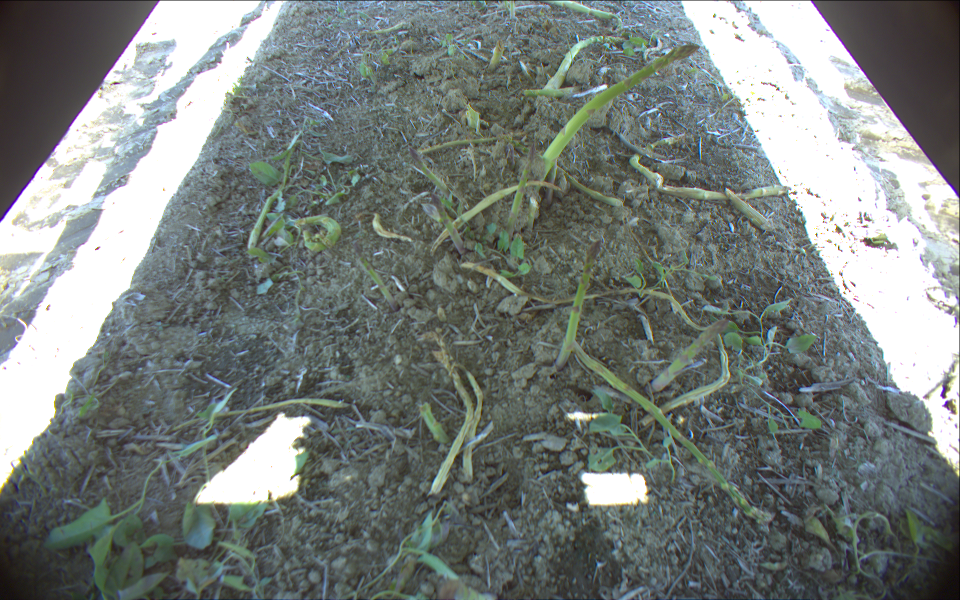aspa: (529, 41, 699, 191), (642, 315, 728, 400), (554, 238, 603, 375), (499, 152, 538, 230), (423, 192, 466, 258), (406, 142, 451, 197)
